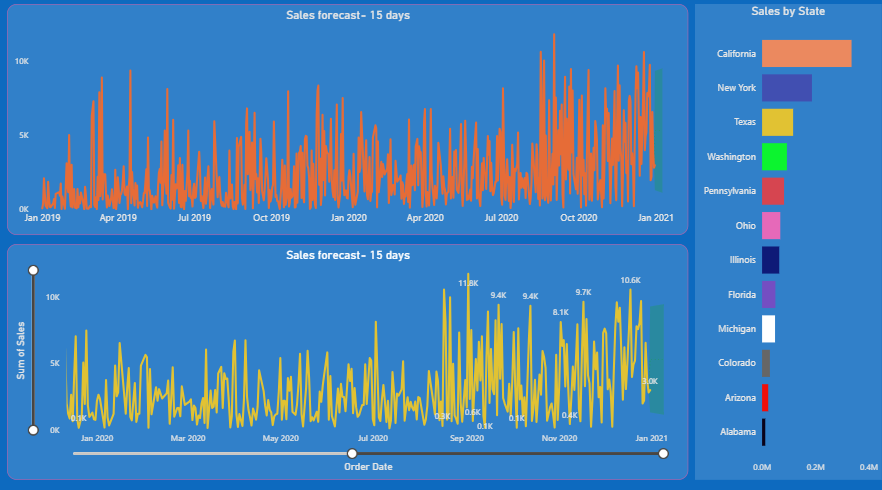

What the dashboard file says about the page in this screenshot:
{"tool":"powerbi","page":{"name":"Page 2","canvas":[1280,720],"ordinal":1},"visuals":[{"type":"lineChart","title":"Sales forecast- 15 days","fields":{"Y":["Sum(SuperStore_Sales_Dataset.Sales)"],"Category":["SuperStore_Sales_Dataset.Order Date"]},"box":[14.5,13,984.6,334],"z":0},{"type":"lineChart","title":"Sales forecast- 15 days","fields":{"Y":["Sum(SuperStore_Sales_Dataset.Sales)"],"Category":["SuperStore_Sales_Dataset.Order Date"]},"box":[14.5,360,984.6,341.2],"z":1000},{"type":"clusteredBarChart","title":"Sales by State","fields":{"Category":["SuperStore_Sales_Dataset.State"],"Y":["Sum(SuperStore_Sales_Dataset.Sales)"]},"box":[1009.2,13,270.4,688.2],"z":2000}]}

Visuals, with their boxes in screenshot pixels (x1, y1, x2, y2), scaled from the page's 1280x720 canvas onto the 882x490 screenshot:
"Sales forecast- 15 days" lineChart: bbox(10, 9, 688, 236)
"Sales forecast- 15 days" lineChart: bbox(10, 245, 688, 477)
"Sales by State" clusteredBarChart: bbox(695, 9, 881, 477)
